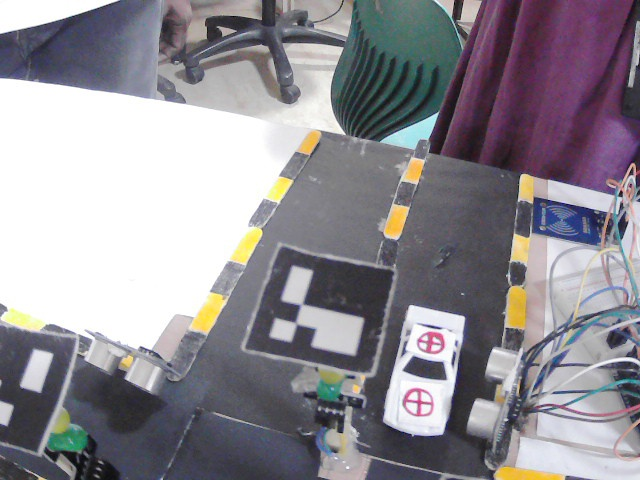aruco_marker: (241, 243, 398, 375), (0, 324, 78, 452)
emergency_vehicle: (374, 306, 471, 439)
traffic_light: (51, 404, 118, 480), (304, 367, 363, 432)
uno_breadboard: (463, 343, 532, 456), (562, 263, 638, 354), (83, 326, 176, 399), (529, 198, 628, 253), (606, 342, 640, 439)
